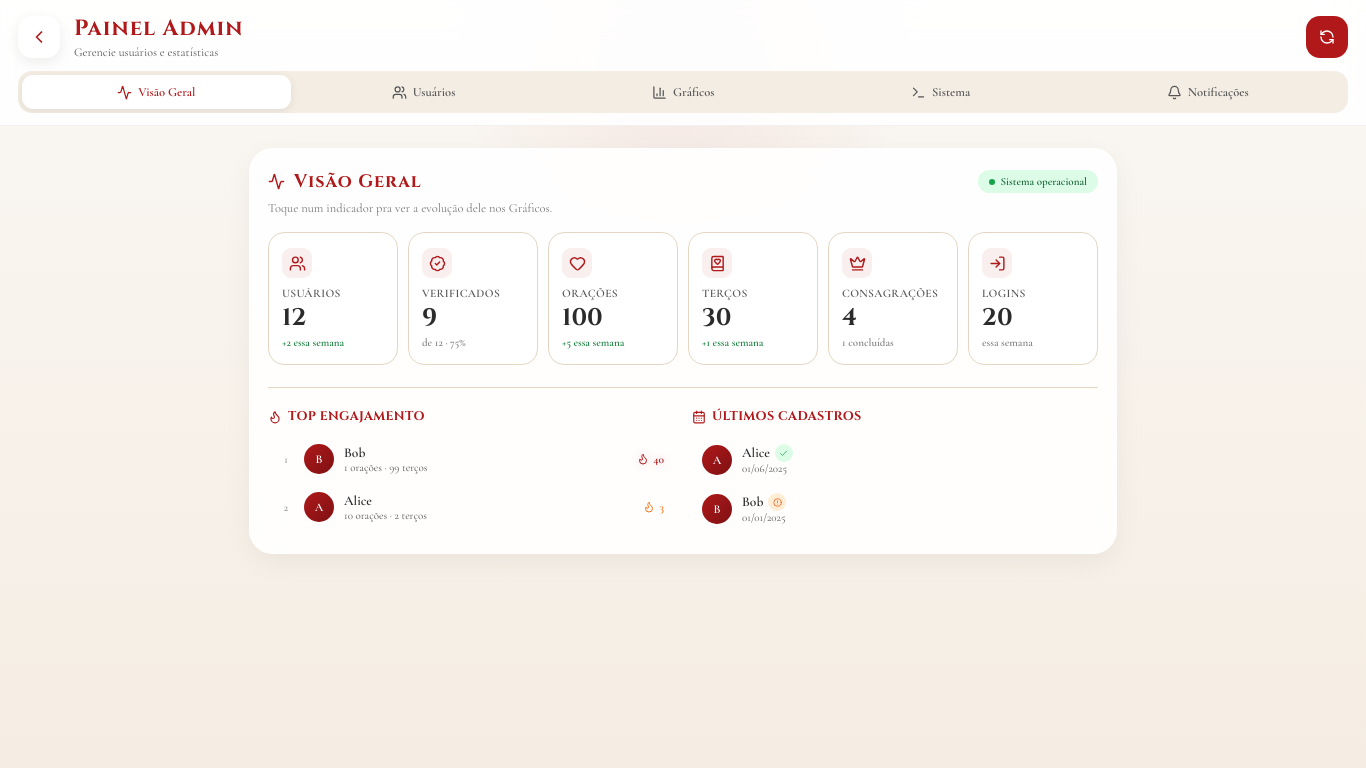
it: AdminPanel › loads and renders system status on the Sistema tab
This screenshot has width=1366, height=768.
Expected: the heading "Visão Geral" is shown, x1=294 y1=169 x2=422 y2=194
Click the button "Sistema": (941, 92) x1=816 y1=75 x2=1066 y2=109
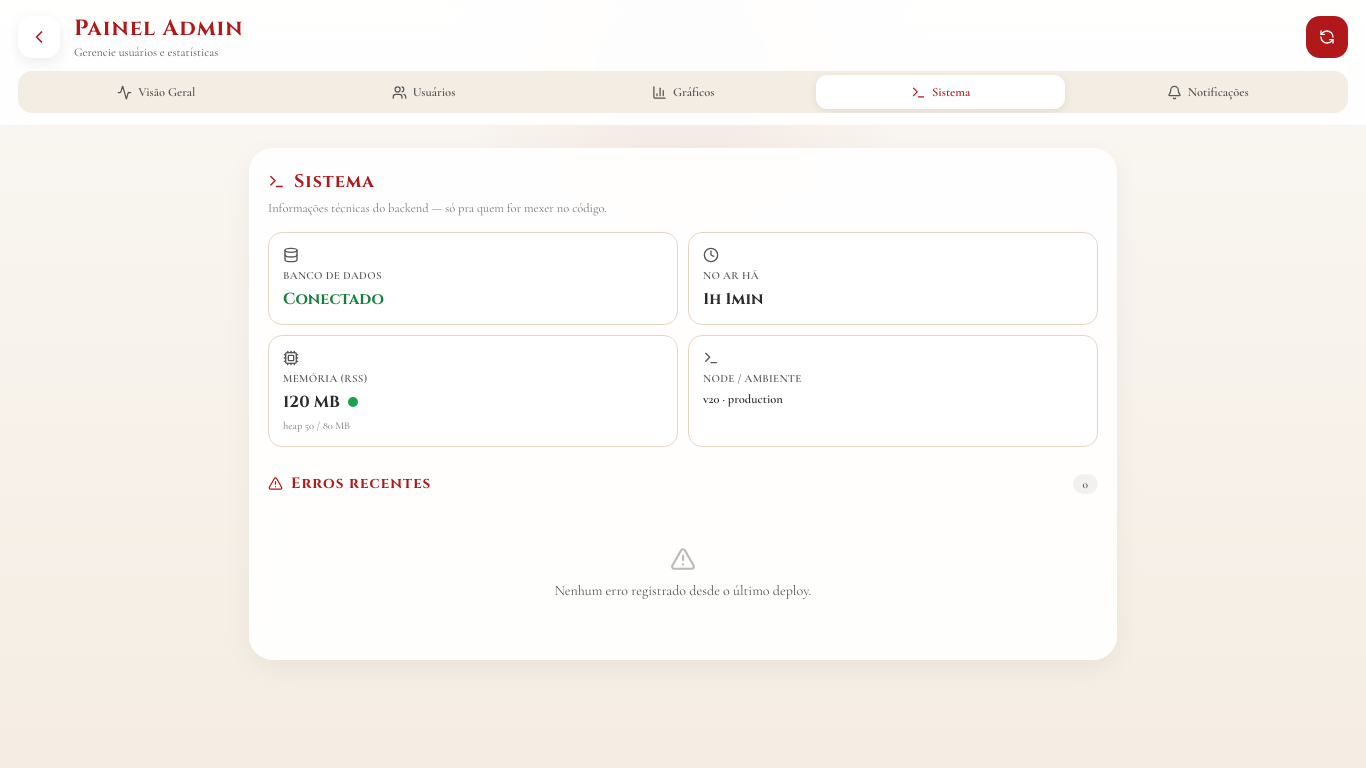
Now the text "Conectado" is shown, box x1=283 y1=288 x2=384 y2=310
Now the text "Nenhum erro registrado desde o último deploy." is shown, box x1=555 y1=582 x2=811 y2=599
